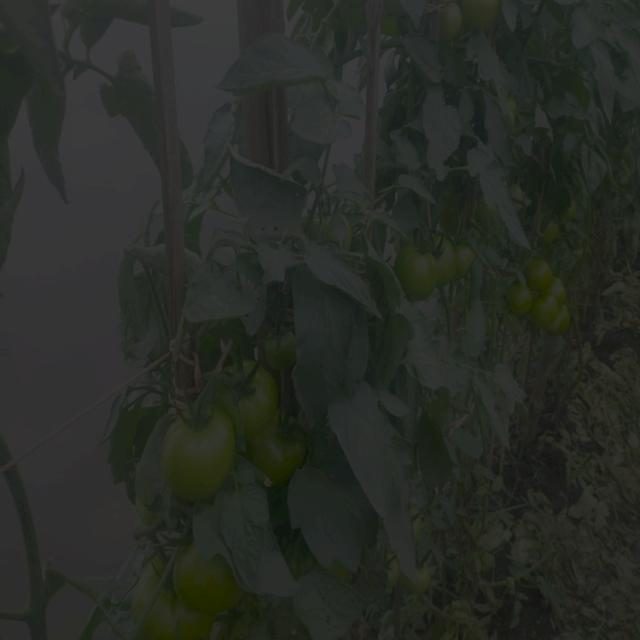tomato: (167, 410, 242, 507), (173, 541, 252, 614), (141, 563, 205, 640), (218, 358, 278, 424), (257, 418, 307, 486), (389, 234, 438, 295), (529, 285, 557, 325), (461, 1, 501, 28), (429, 239, 453, 278), (506, 280, 529, 314), (523, 256, 547, 288), (445, 1, 462, 42), (551, 304, 571, 329), (544, 271, 561, 299), (448, 237, 464, 262), (542, 217, 558, 236)
